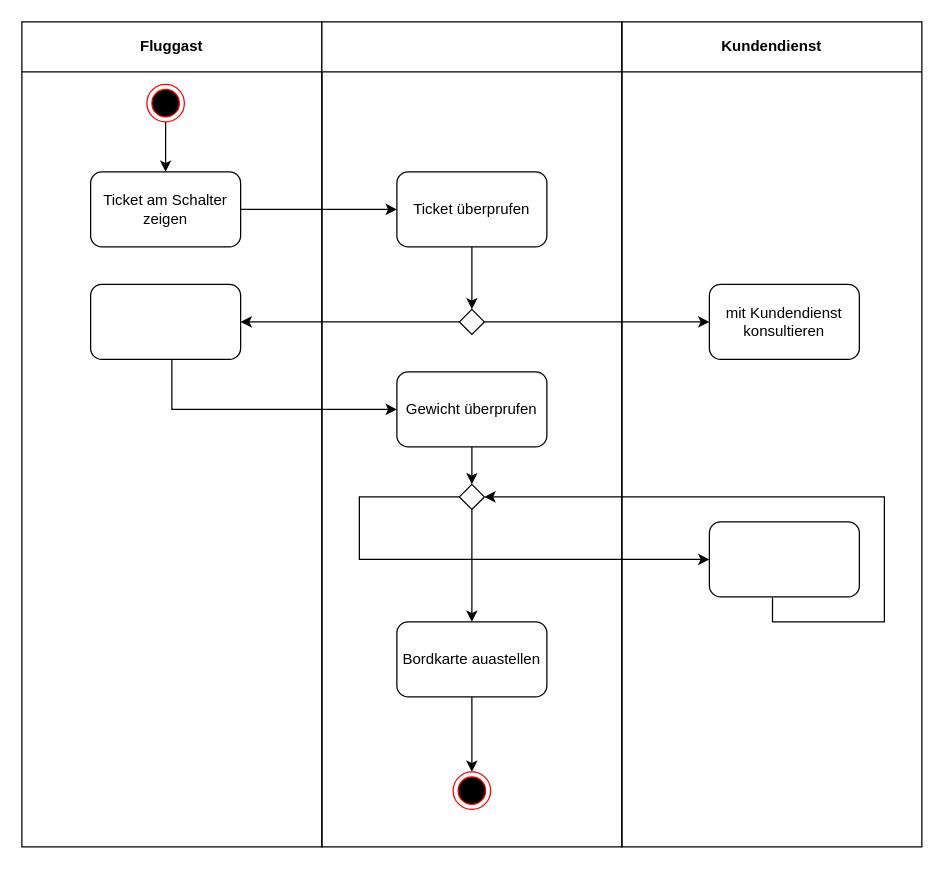
The diagram is 944 pixels wide and 869 high, and some of its shapes have lost their labels. The box of each missing label's shape, as (x1, y1, x2, y2) in pixels:
Gepäck überreichen: (89, 283, 241, 359)
Passagierabfertigung: (321, 21, 622, 847)
zusätzliche Kosten übernehmen: (708, 521, 859, 597)
